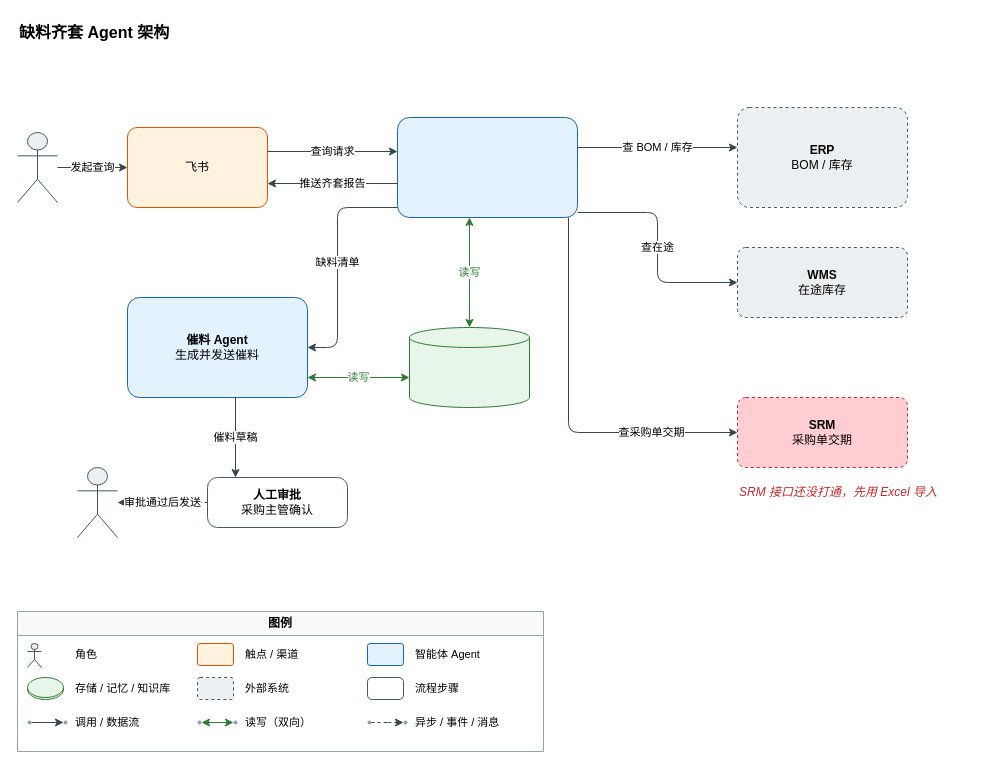
Image size: 985x769. Some labels were removed from this diagram. Here are the shapes that lost their labels. From the top down, the centre of each, then its label:
At (x=37, y=167): "业务员".
At (x=487, y=167): "齐套 Agent 齐套率计算".
At (x=469, y=367): "共享记忆 物料历史催料记录".
At (x=97, y=502): "供应商".
